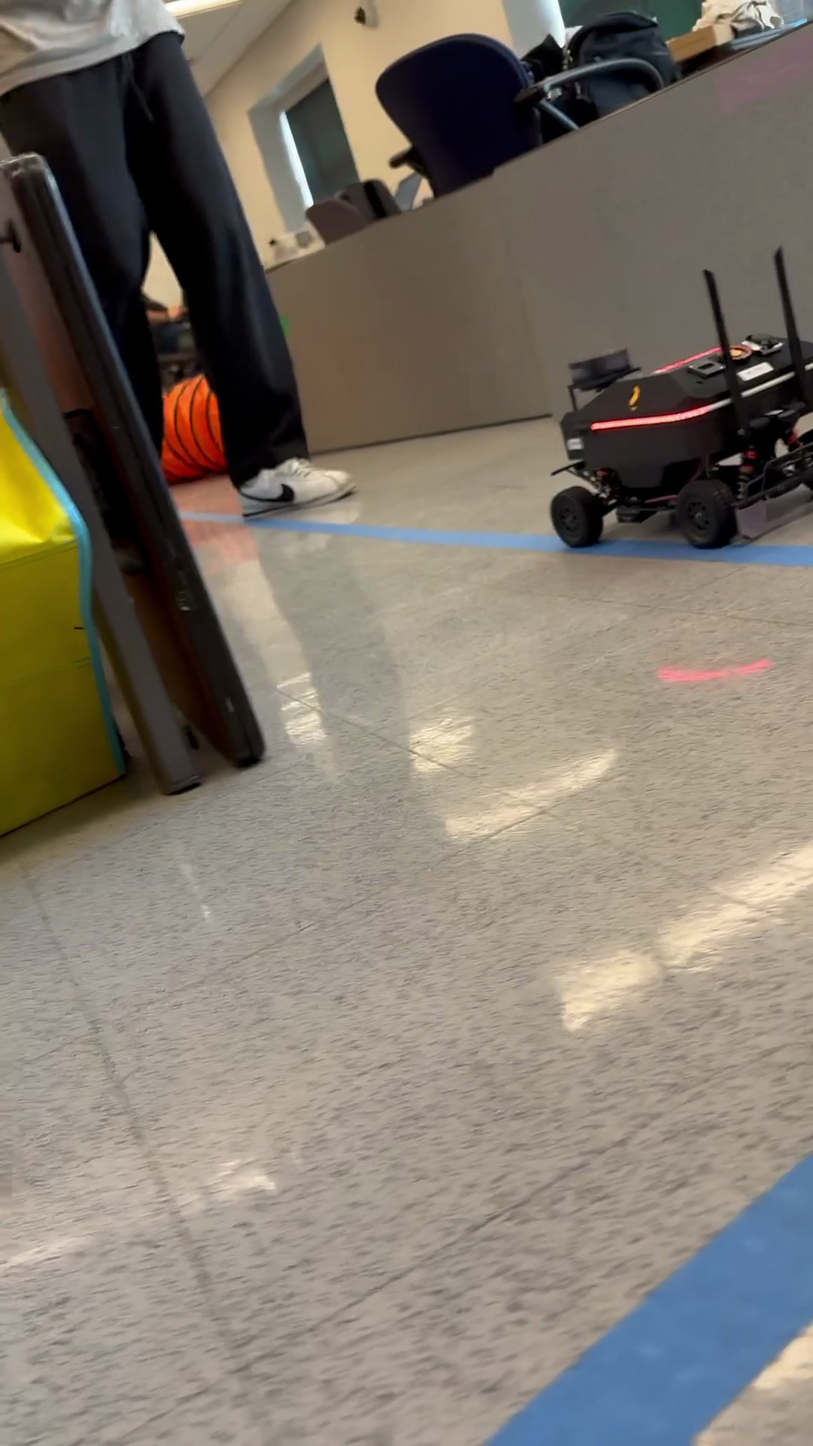racecar: (550, 248, 813, 552)
